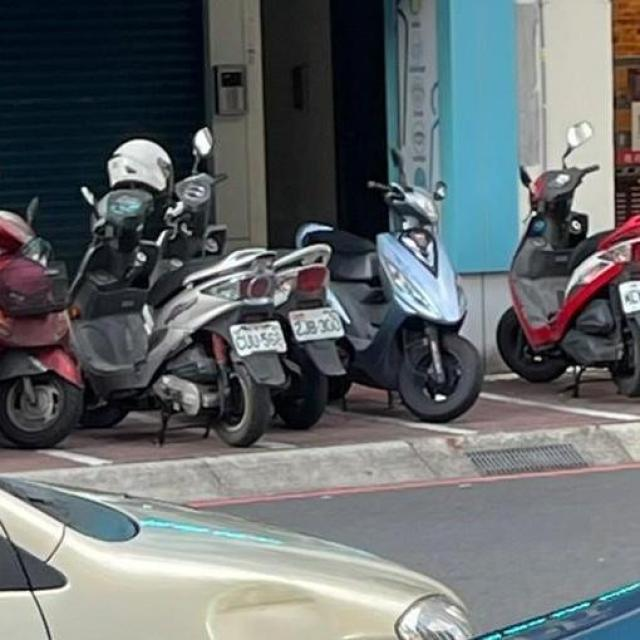W: (226, 314, 290, 359), (284, 302, 348, 344), (613, 271, 640, 316)
